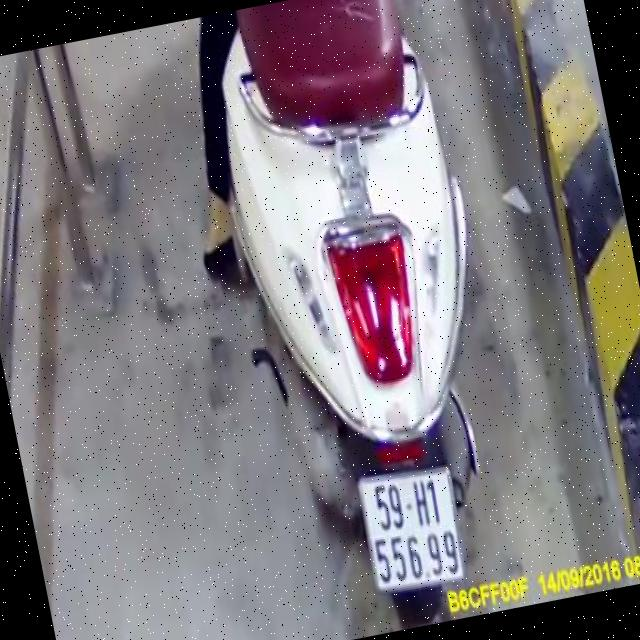license_plate: (358, 464, 466, 594)
